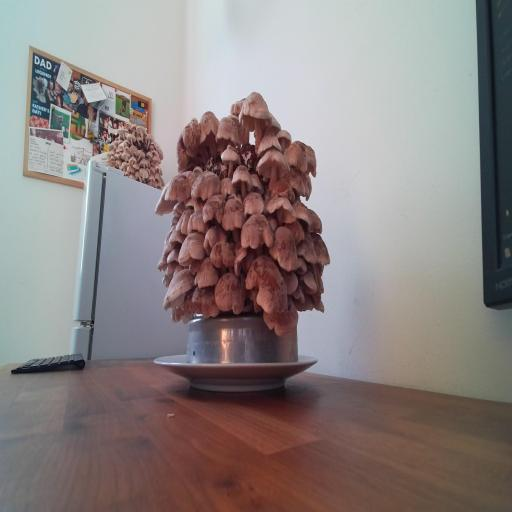Shiitake Mushroom: (231, 242, 305, 332), (162, 113, 219, 189), (226, 81, 286, 152), (256, 218, 317, 281), (244, 136, 301, 197), (151, 258, 204, 320), (232, 203, 280, 267), (259, 182, 306, 239), (255, 295, 308, 341), (181, 164, 229, 206), (216, 190, 251, 245), (278, 158, 317, 202), (290, 229, 325, 275), (213, 269, 247, 316), (193, 218, 235, 256), (150, 178, 183, 226), (210, 111, 243, 158), (225, 158, 260, 202), (174, 227, 208, 269), (215, 138, 247, 180), (196, 107, 221, 158), (307, 225, 334, 272), (289, 194, 317, 238), (162, 169, 199, 202), (281, 210, 311, 249), (281, 135, 311, 173), (277, 259, 303, 298), (226, 238, 251, 278), (191, 285, 220, 319), (193, 255, 220, 290), (267, 175, 299, 203), (163, 221, 190, 254), (226, 106, 248, 146), (297, 265, 321, 301), (307, 258, 328, 297), (174, 201, 195, 238), (254, 130, 284, 155), (273, 121, 296, 153), (209, 241, 236, 268), (226, 87, 248, 120), (246, 167, 268, 199), (202, 193, 225, 223), (161, 253, 182, 281), (303, 140, 318, 179), (184, 253, 207, 278), (264, 110, 285, 137), (289, 282, 309, 310), (309, 288, 327, 319), (242, 190, 264, 215), (187, 210, 209, 235), (168, 196, 190, 221), (218, 173, 237, 200), (181, 287, 195, 317), (157, 238, 176, 259), (308, 208, 323, 233), (154, 253, 171, 275), (303, 170, 313, 201), (296, 255, 309, 276), (171, 307, 188, 323), (166, 246, 181, 263), (160, 272, 173, 289), (193, 166, 203, 175)
